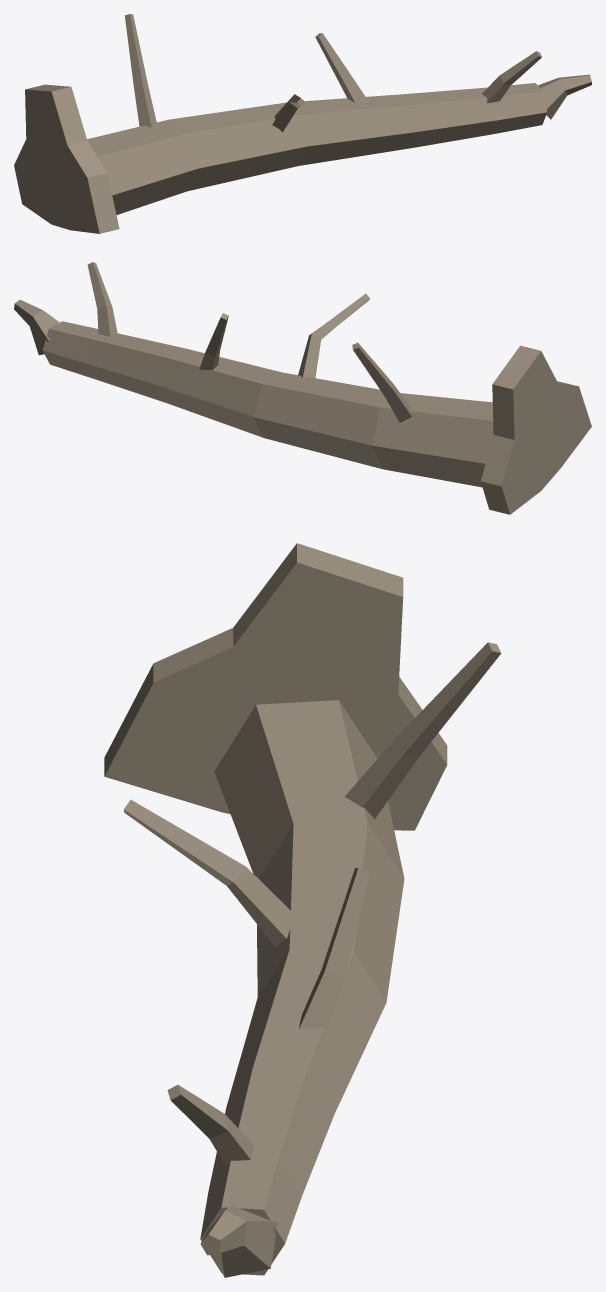
Rendered from deadfall.glb.
The picture shows the model from 3 angles, top to bottom: view 1: azimuth 30°, elevation 25°; view 2: azimuth 150°, elevation 25°; view 3: azimuth 270°, elevation 25°; orthographic projection. The views are drawn at different scales.
Parts seen in each view (by area): view 1: deadfall; view 2: deadfall; view 3: deadfall.
Part boxes in pixels (<box>): deadfall: <box>14,14,591,233</box>; deadfall: <box>14,262,591,514</box>; deadfall: <box>104,543,501,1277</box>.
Bounding box in the file's own units: 5.75 × 1.55 × 1.9.
